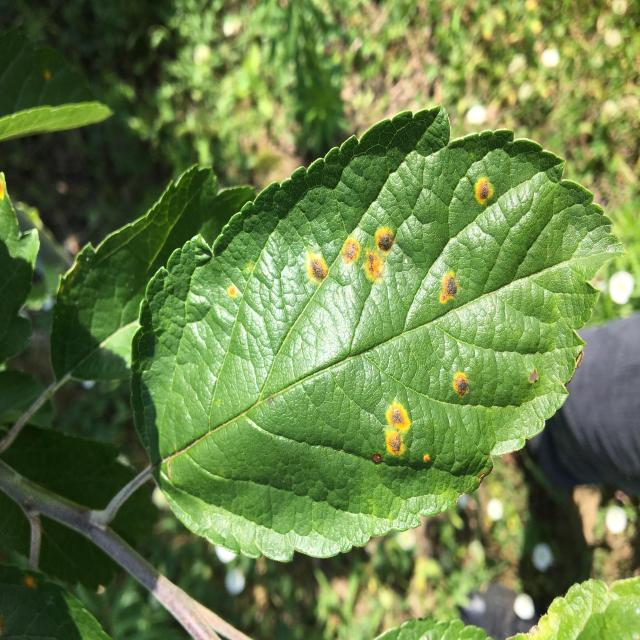Rust: (378, 386, 414, 474), (421, 267, 479, 311), (357, 250, 396, 305), (333, 226, 362, 293), (361, 216, 421, 248), (468, 160, 496, 227), (210, 272, 249, 318), (292, 246, 330, 284), (448, 367, 479, 407)
